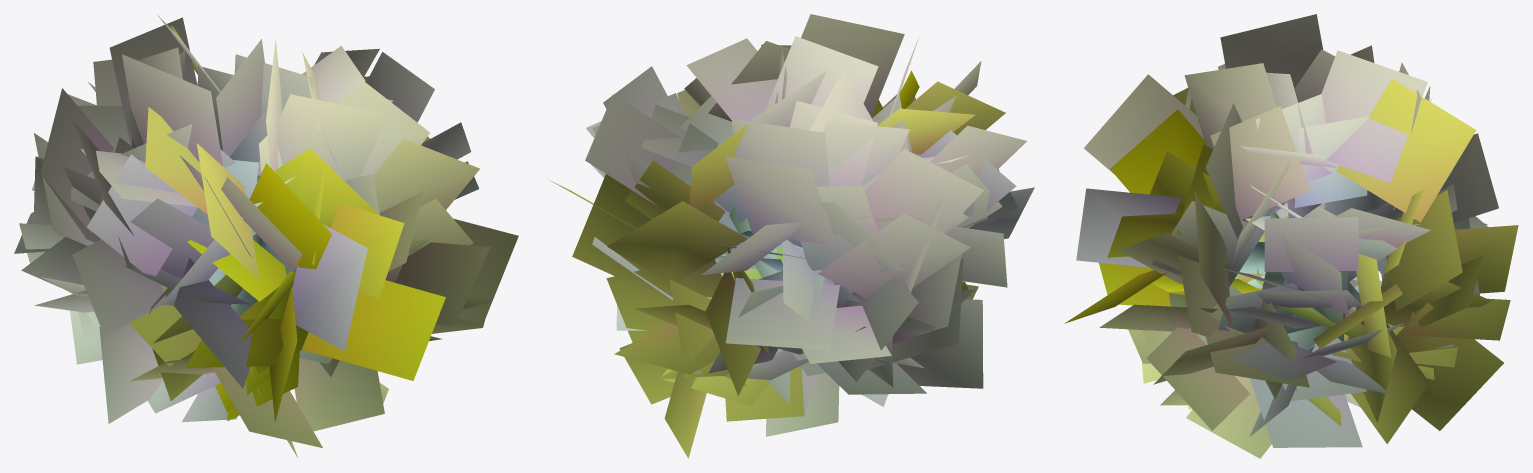
The model's file is shrub_lilac_lod1.glb.
3 views of the same model, side by side, from view 1: azimuth 30°, elevation 25°; view 2: azimuth 150°, elevation 25°; view 3: azimuth 270°, elevation 25° (orthographic). The views are drawn at different scales.
Visible parts, largest first — view 1: shrub_lilac_lod1; view 2: shrub_lilac_lod1; view 3: shrub_lilac_lod1.
Boxes of the visible parts, bbox=[...] form: shrub_lilac_lod1: bbox=[14, 14, 518, 457]; shrub_lilac_lod1: bbox=[548, 14, 1034, 458]; shrub_lilac_lod1: bbox=[1064, 14, 1518, 458].
Bounding box in the file's own units: 3.48 × 3.12 × 3.57.
